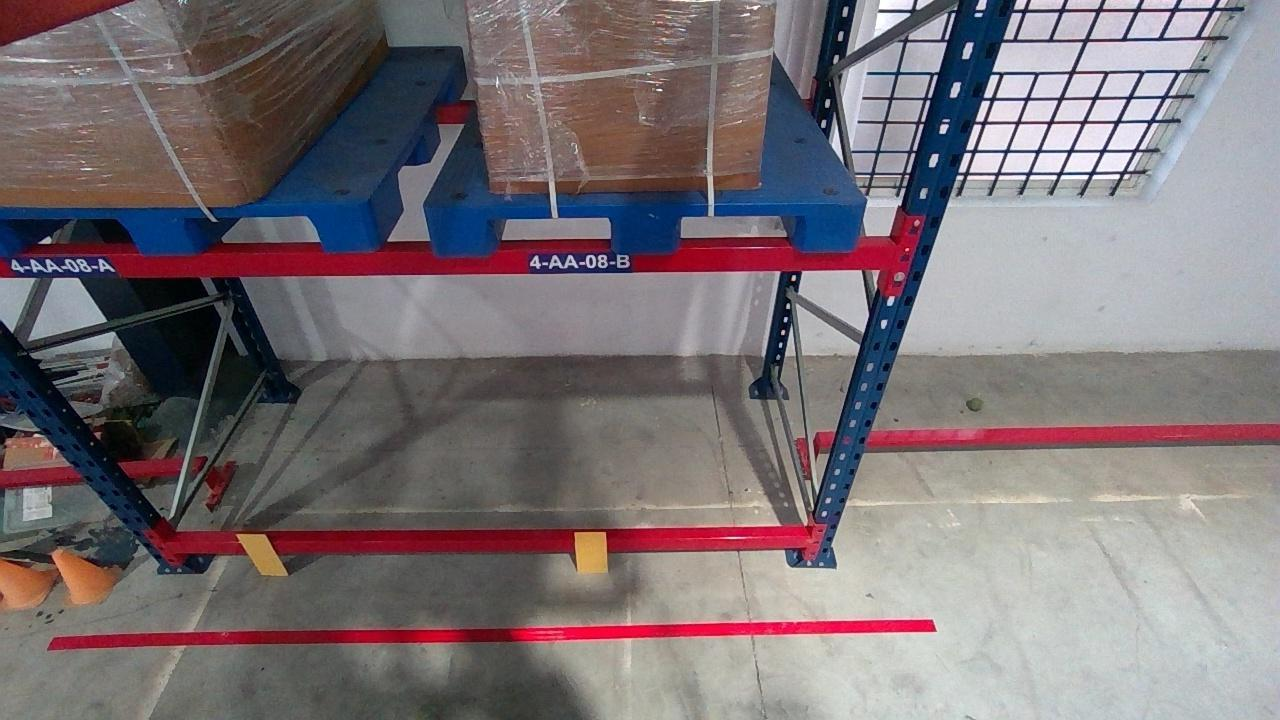h_rack: (1, 244, 904, 275), (163, 533, 811, 555)
orange_strip: (234, 533, 290, 576), (573, 531, 607, 573)
red_line: (40, 618, 936, 645)
small_pallet: (430, 201, 864, 250), (1, 204, 377, 254)
